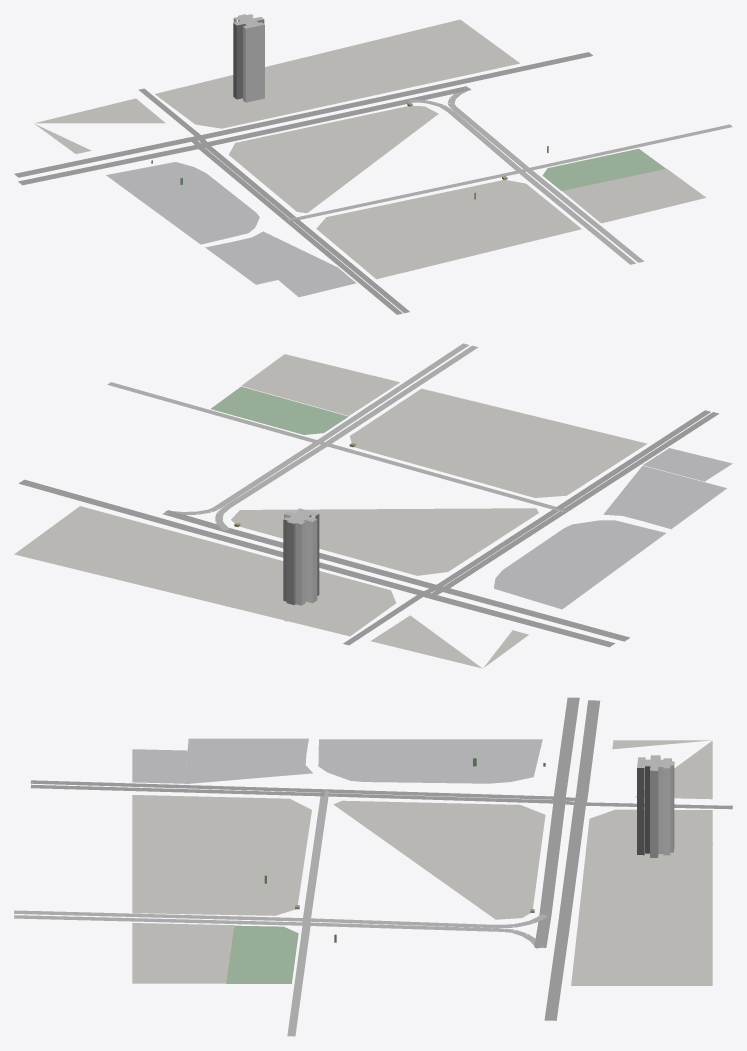
3 views of the same model, one above another, from view 1: azimuth 30°, elevation 25°; view 2: azimuth 150°, elevation 25°; view 3: azimuth 270°, elevation 25° (orthographic). The views are drawn at different scales.
Bounding box in the file's own units: 694 × 83.3 × 619.
